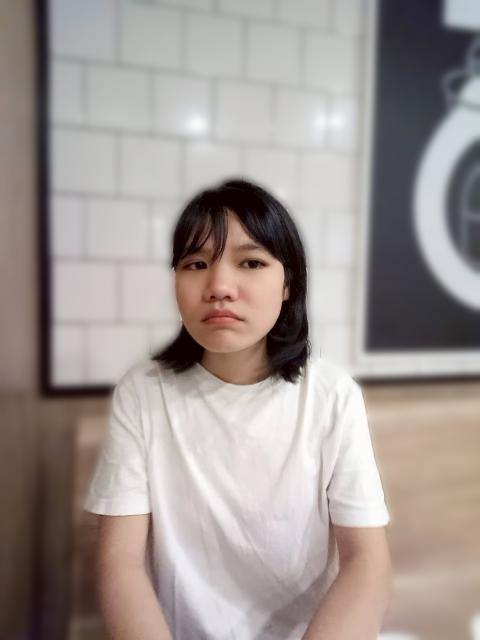fokus: (172, 209, 289, 354)
